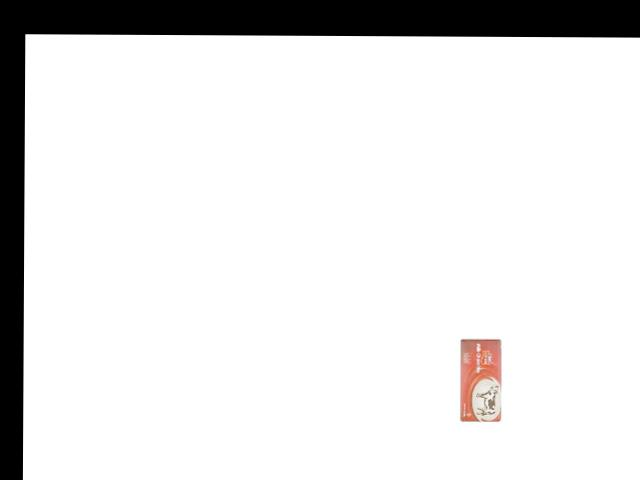chocolate: (457, 336, 501, 421)
